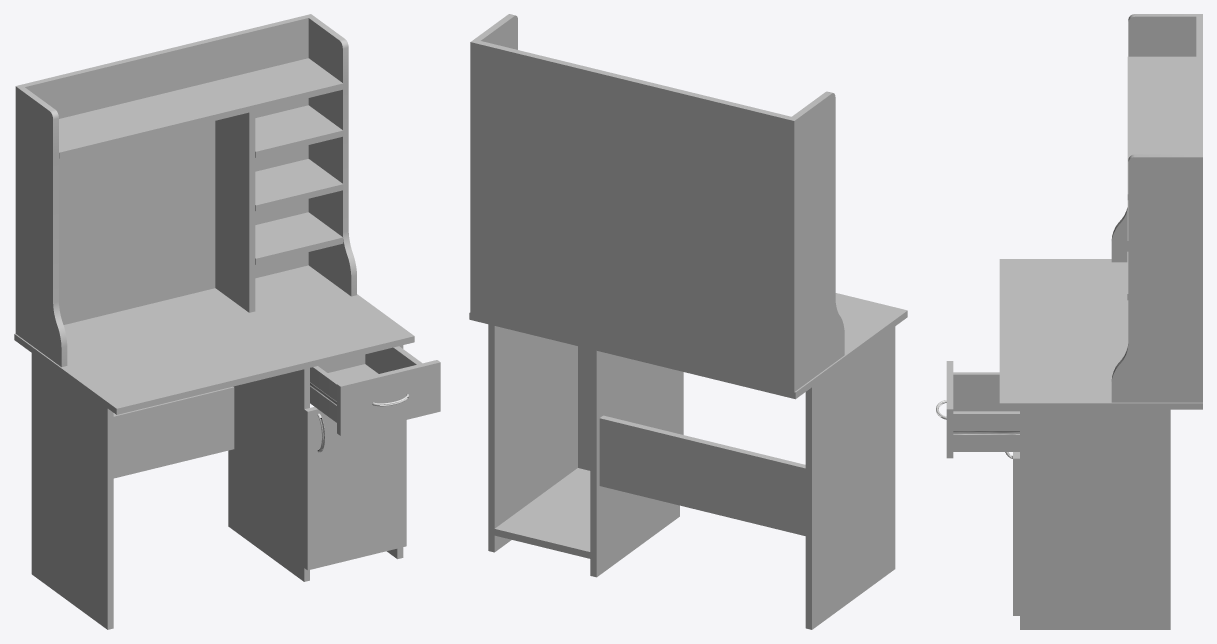
The model's file is Desk.fbx.
The picture shows the model from 3 angles, left to right: view 1: azimuth 30°, elevation 25°; view 2: azimuth 150°, elevation 25°; view 3: azimuth 270°, elevation 25°; orthographic projection. The views are drawn at different scales.
Parts seen in each view (by area): view 1: Masa, Kapak, Cekmece; view 2: Masa, Kapak; view 3: Masa, Cekmece, Kapak.
Boxes of the visible parts, bbox=[...] form: Masa: bbox=[14, 14, 414, 629]; Kapak: bbox=[304, 407, 406, 570]; Cekmece: bbox=[310, 346, 440, 435]; Masa: bbox=[469, 14, 907, 629]; Kapak: bbox=[578, 346, 683, 470]; Masa: bbox=[999, 14, 1202, 629]; Cekmece: bbox=[946, 361, 1019, 458]; Kapak: bbox=[1013, 452, 1019, 615].
Bounding box in the file's own units: 101 × 154 × 78.8.
